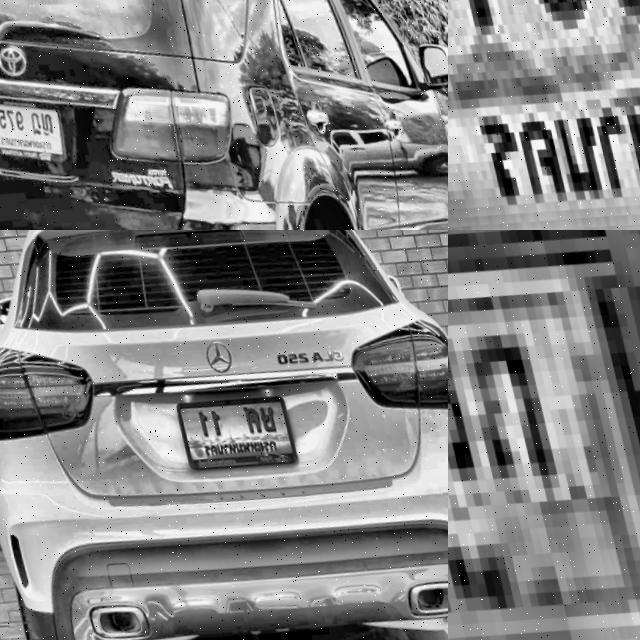license-plate: (448, 230, 640, 640), (448, 0, 640, 230), (167, 379, 294, 475), (0, 104, 57, 155)
